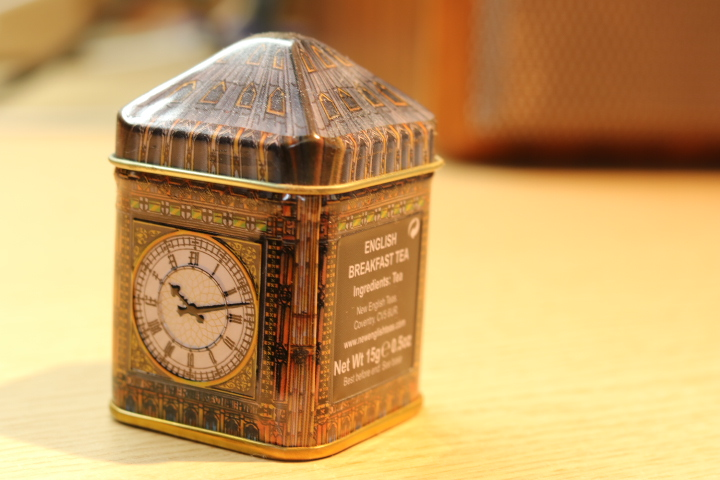Big Ben: (100, 25, 449, 469)
